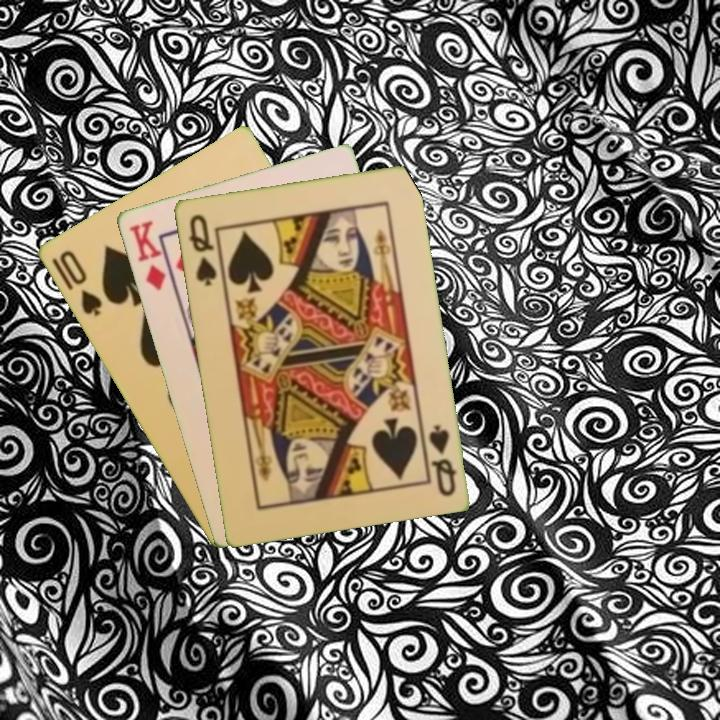10s: (55, 246, 105, 319)
Kd: (125, 216, 176, 294)
Qs: (184, 210, 219, 289), (424, 421, 459, 499)
